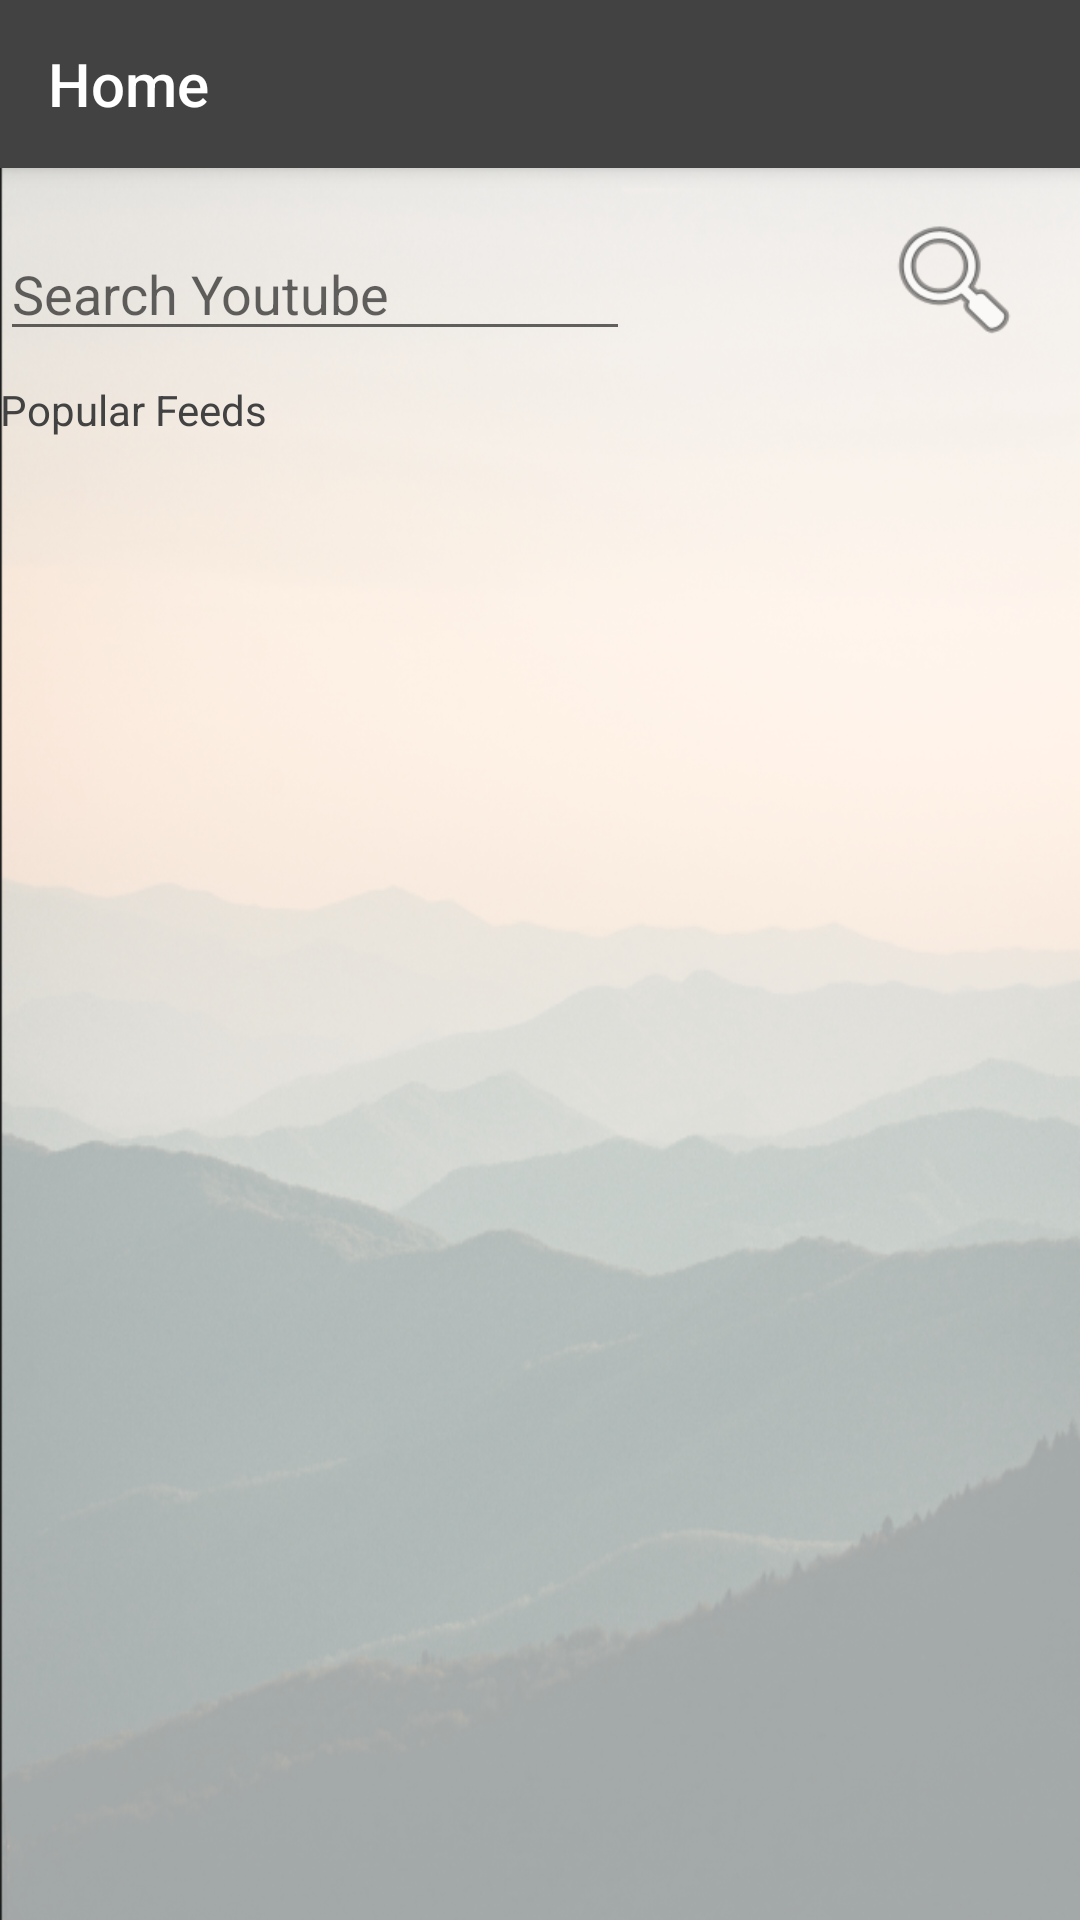

Screen size 1080x1920. Icon name, then its box in pixels as (x1, y1, x2, y2):
search: (898, 226, 1009, 333)
